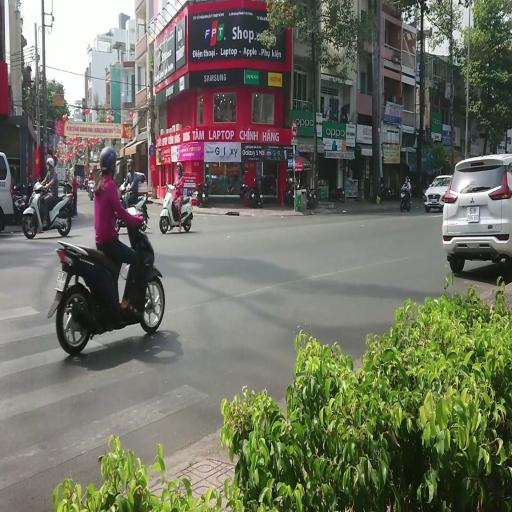bikes: (47, 208, 165, 355), (22, 176, 73, 238), (159, 182, 193, 233), (115, 185, 149, 232), (118, 171, 147, 207), (11, 182, 33, 223), (284, 179, 315, 208), (240, 177, 263, 208), (57, 180, 74, 210), (284, 178, 299, 206), (117, 184, 130, 208), (196, 182, 208, 206), (400, 186, 411, 212), (330, 186, 346, 202), (306, 186, 316, 208), (87, 181, 95, 200), (82, 177, 88, 190)
helmet: (99, 146, 117, 172), (33, 182, 42, 192), (46, 157, 54, 168), (176, 162, 182, 174), (128, 159, 134, 171), (176, 162, 182, 168), (36, 173, 40, 181), (405, 176, 410, 182), (89, 170, 92, 174)
